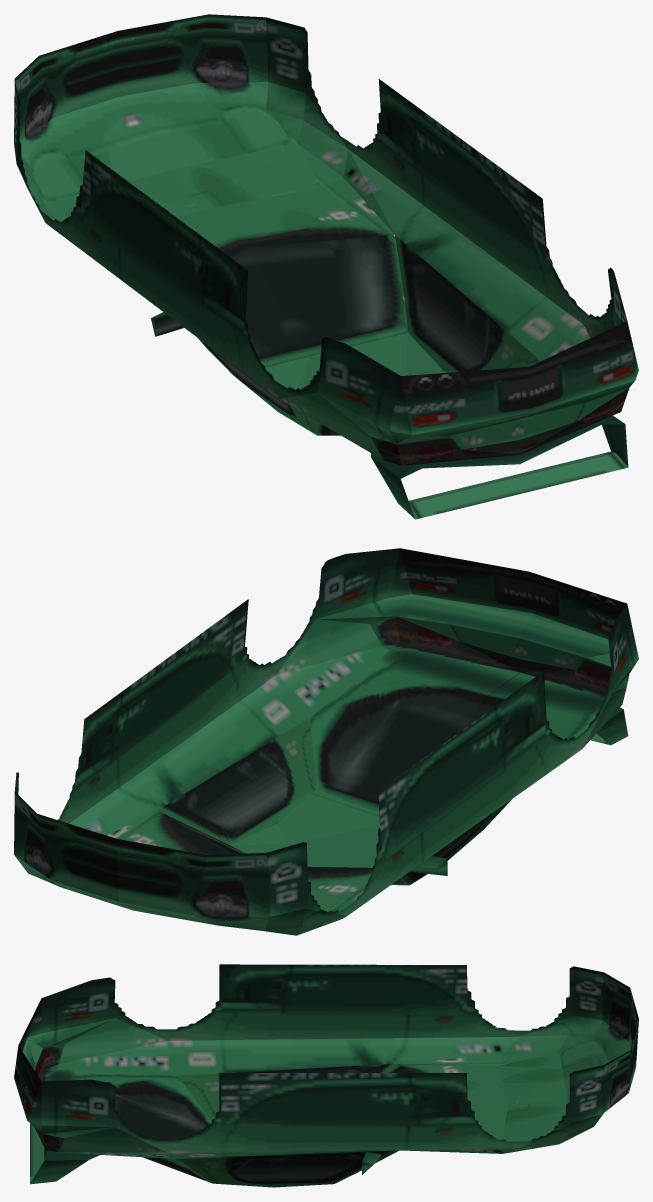
The picture shows the model from 3 angles, top to bottom: view 1: azimuth 30°, elevation 25°; view 2: azimuth 150°, elevation 25°; view 3: azimuth 270°, elevation 25°; orthographic projection. The views are drawn at different scales.
Visible parts, largest first — view 1: CAR_00_CAR_00.001; view 2: CAR_00_CAR_00.001; view 3: CAR_00_CAR_00.001.
Boxes of the visible parts, x1,y1,x2,y2 form: CAR_00_CAR_00.001: [14, 14, 638, 519]; CAR_00_CAR_00.001: [14, 548, 638, 935]; CAR_00_CAR_00.001: [14, 964, 638, 1187].
Bounding box in the file's own units: 12.49 × 7.37 × 29.42.
1 material, 1 textured.
